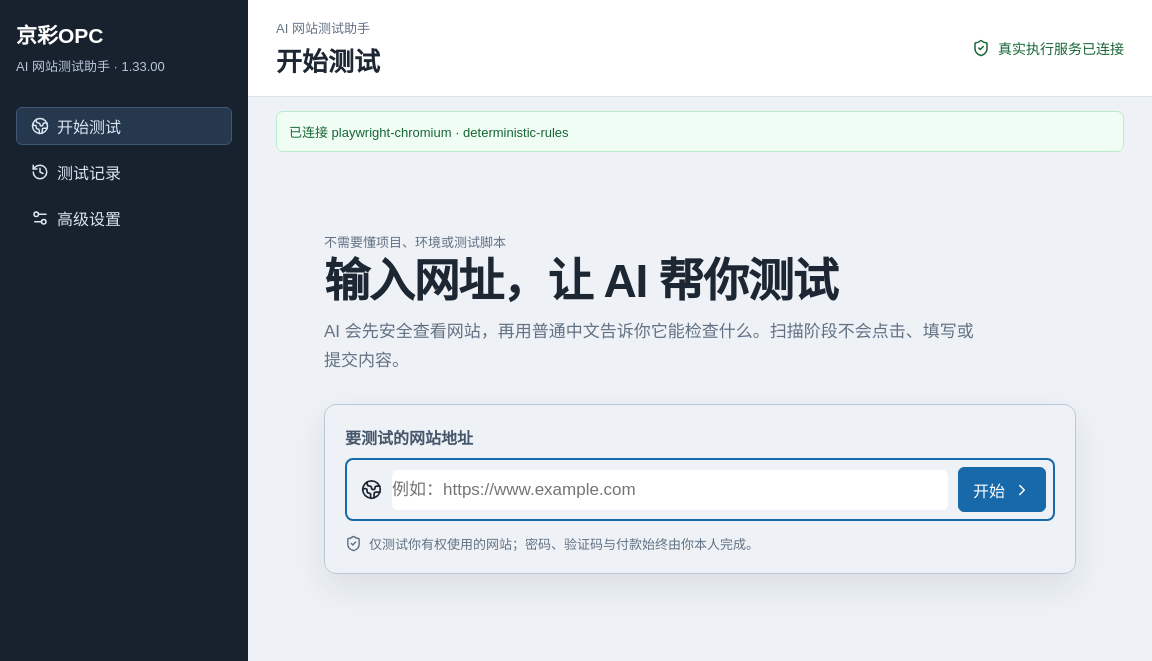
Test: App › keeps three ordinary navigation choices and exposes all advanced settings
Check: the text "真实执行服务已连接" is shown, box [998, 38, 1124, 58]
Check: the field labelled "要测试的网站地址" is shown, box [392, 470, 948, 510]
Click the button "高级设置": [124, 218] box [16, 199, 232, 237]
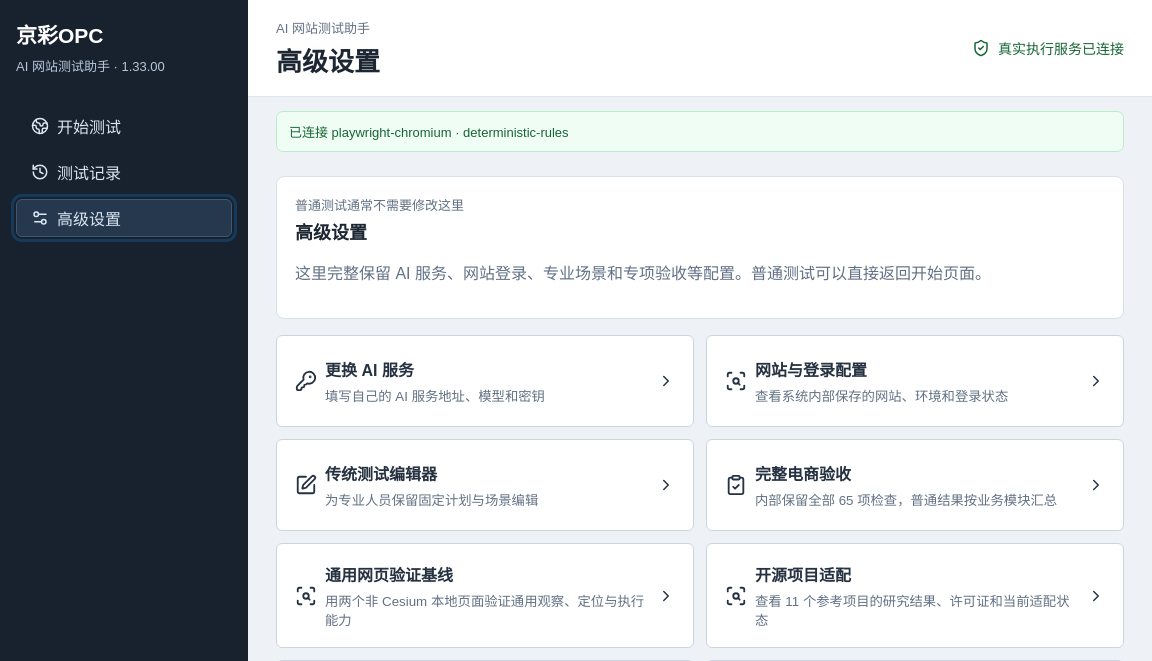
Check: the button "更换 AI 服务 填写自己的 AI 服务地址、模型和密钥" is shown, box [276, 335, 694, 427]
Check: the button "网站与登录配置 查看系统内部保存的网站、环境和登录状态" is shown, box [706, 335, 1124, 427]
Check: the button "传统测试编辑器 为专业人员保留固定计划与场景编辑" is shown, box [276, 439, 694, 531]
